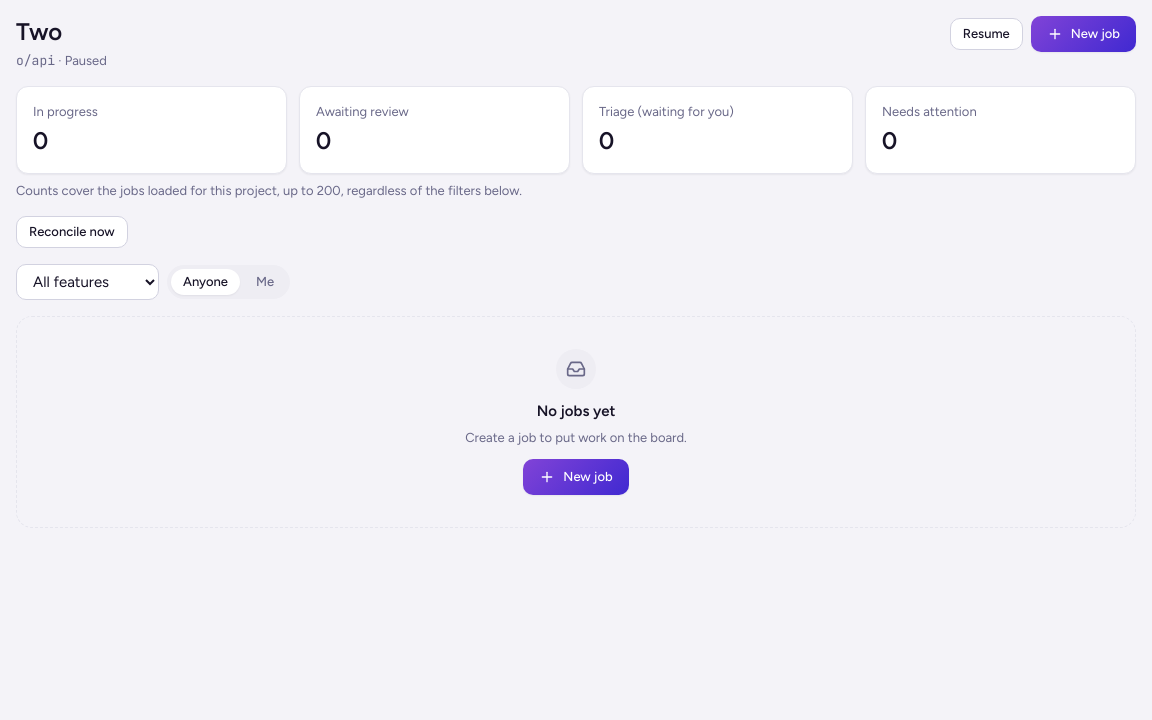
Dashboard stats › header shows the project, repos and paused state, and New job opens the dialog
The width and height of the screenshot is (1152, 720).
Expected: the heading "Two" is shown, [16,17,62,46]
Expected: the text "o/api" is shown, [16,52,55,69]
Click the button "New job" in the row of "Two": (1083, 34) [1031,16,1136,52]
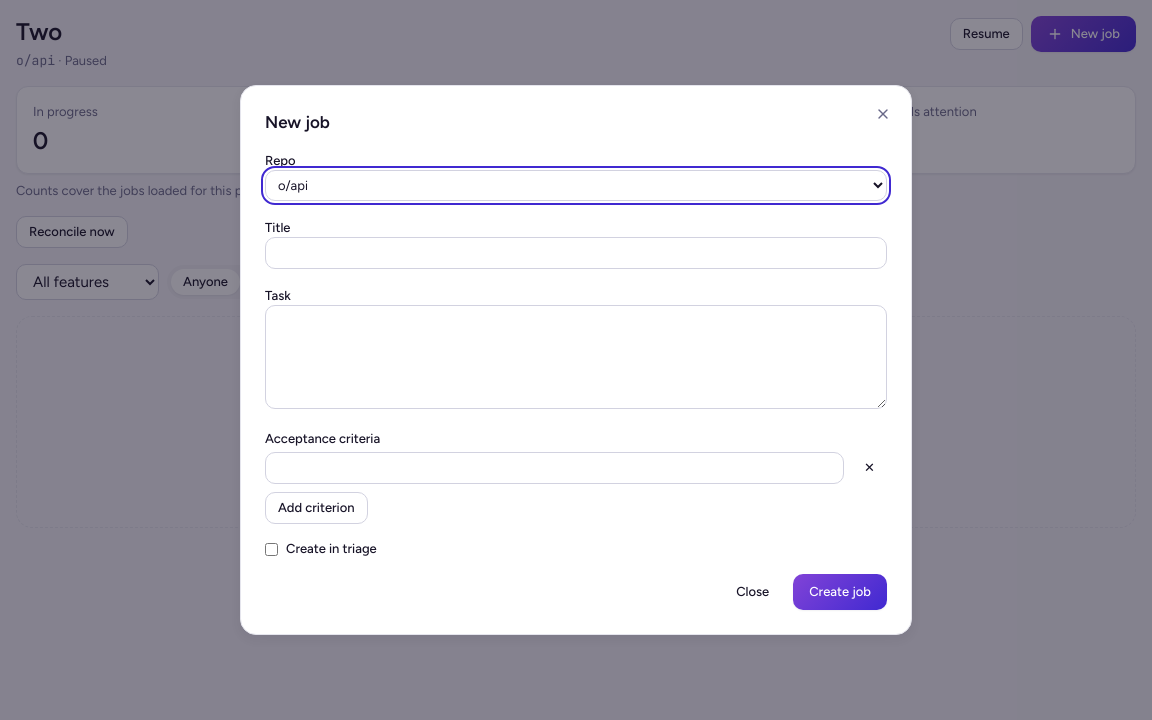
Result: the dialog is shown at [240,85,912,635]
